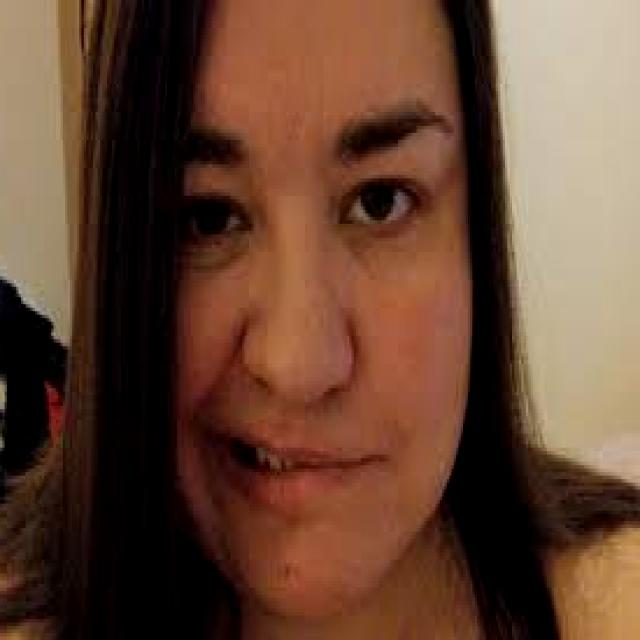stroke_face: (120, 5, 485, 620)
